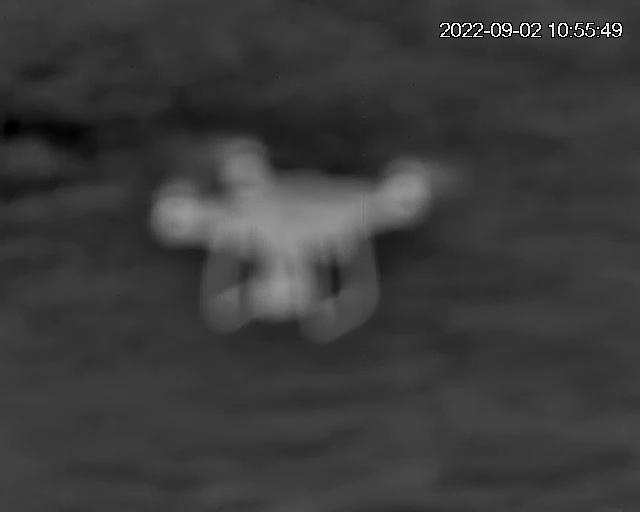DJI-Phantom: (162, 150, 420, 333)
